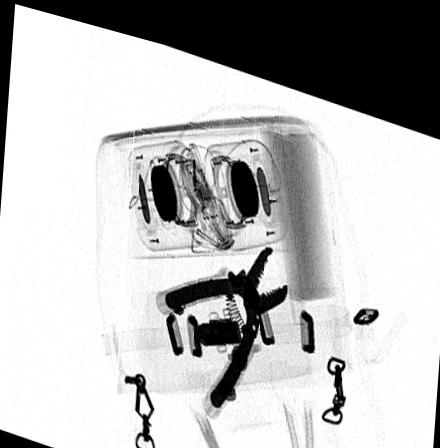Pliers: (164, 231, 287, 399)
